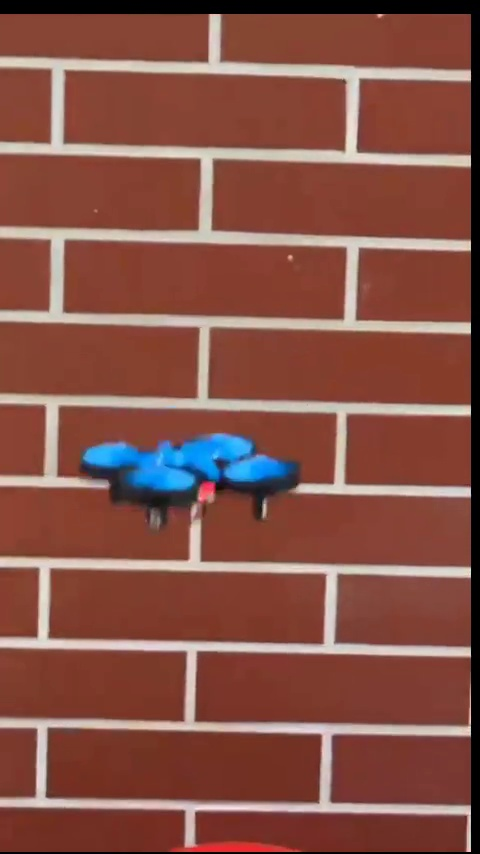drone: (80, 432, 305, 525)
